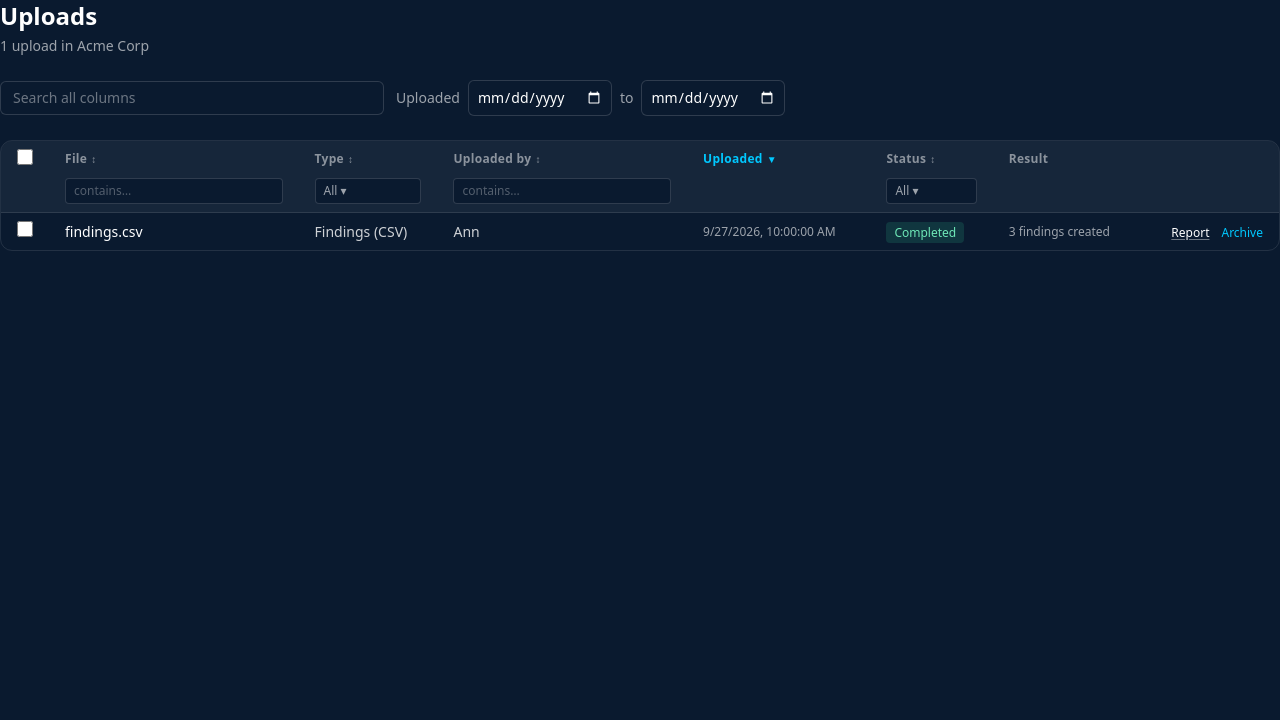
it: Uploads page › lists uploads and archives one after confirming, then reloads the list
Expected: the text "Findings (CSV)" is shown, [298,212,437,250]
Expected: the text "Ann" is shown, [438,212,687,250]
Click the button with aria-label "Archive findings.csv": (1242, 232) [1222,224,1263,240]
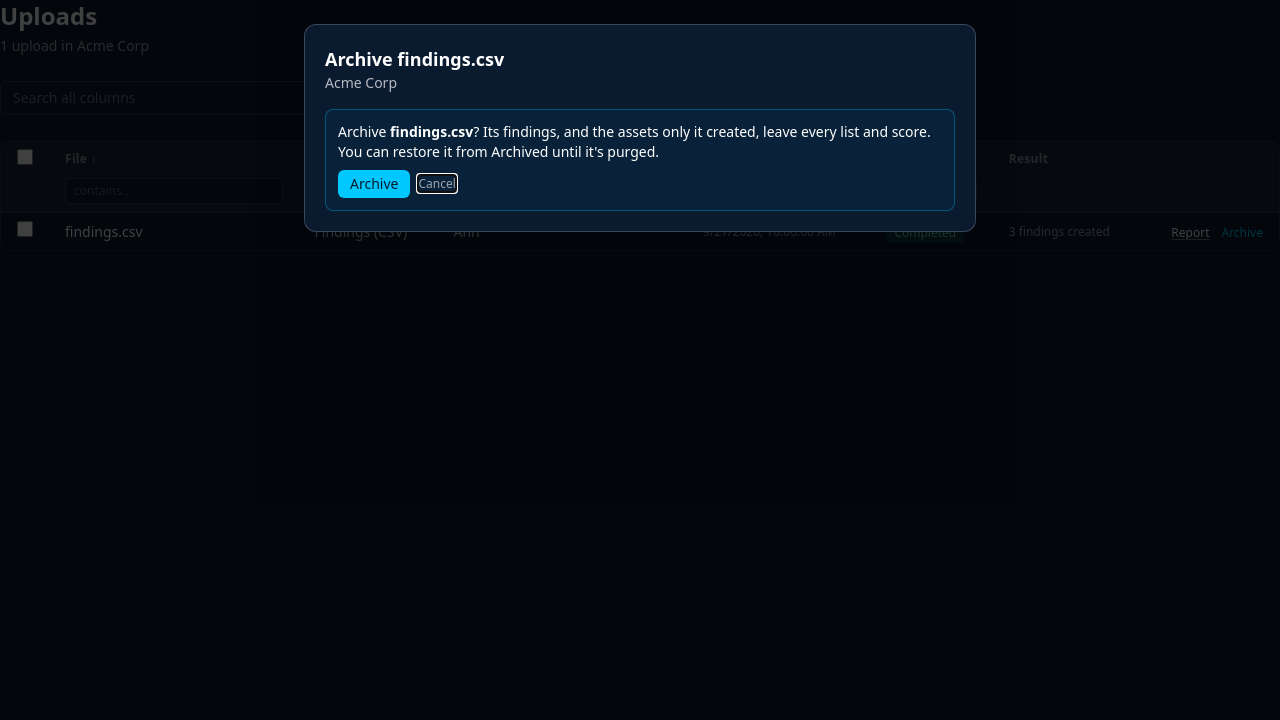
Expected: the element "Archive findings.csv" shows "the assets only it created", [338,122,931,161]
Click the button "Archive": (374, 184) [338,170,410,198]
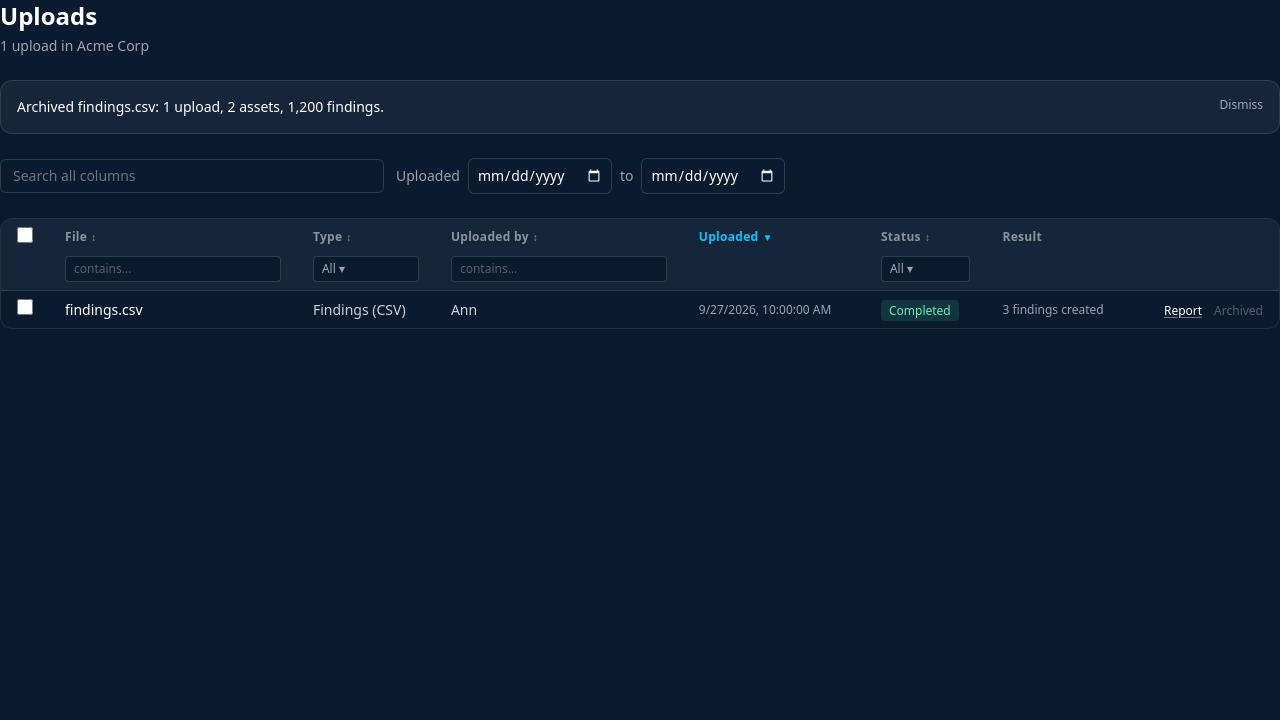
Expected: the text "Archived findings.csv: 1 upload, 2 assets, 1,200 findings." is shown, [17,97,384,117]
Expected: the heading "Archive findings.csv" is gone
